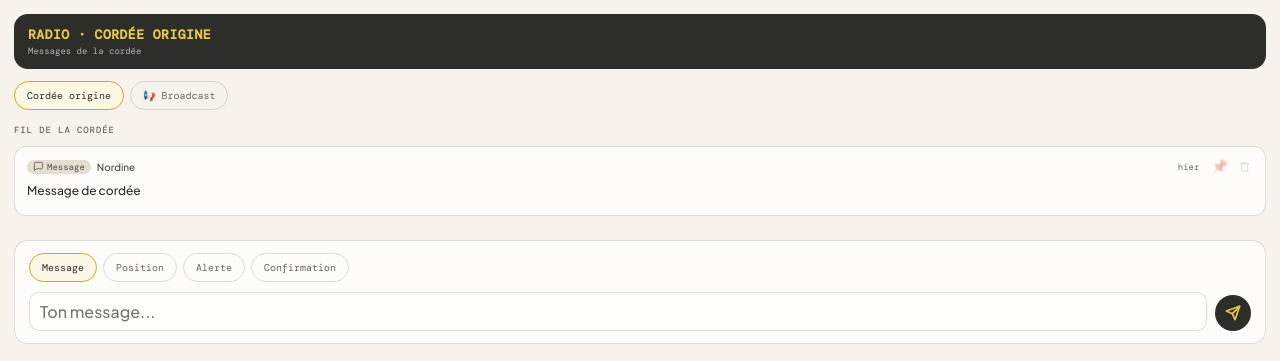
Test case: RadioPage › le sélecteur bascule sur le canal Broadcast (collection racine) sans en faire la cordée active
Expected: the button "Cordée origine" is shown, x1=14 y1=81 x2=124 y2=110
Expected: the text "Message de cordée" is shown, x1=27 y1=183 x2=141 y2=198
Click the button "📢 Broadcast" at x=179, y=96, box x1=130 y1=81 x2=228 y2=110
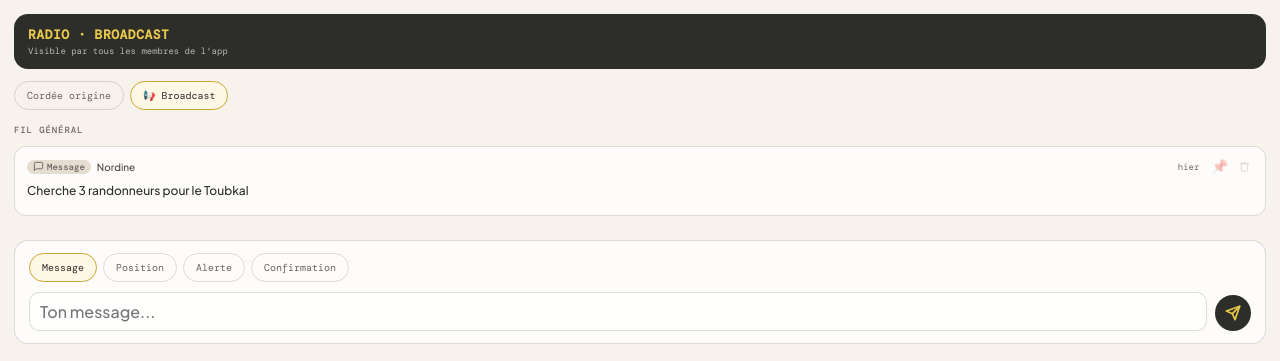
Expected: the text "Cherche 3 randonneurs pour le Toubkal" is shown, x1=27 y1=183 x2=249 y2=198
Expected: the text "Message de cordée" is gone
Expected: the text "Visible par tous les membres de l'app" is shown, x1=28 y1=45 x2=228 y2=57
# Retour sur le canal de la cordée : celui-ci redevient la cordée active.
Click the button "Cordée origine" at x=69, y=96, box x1=14 y1=81 x2=124 y2=110
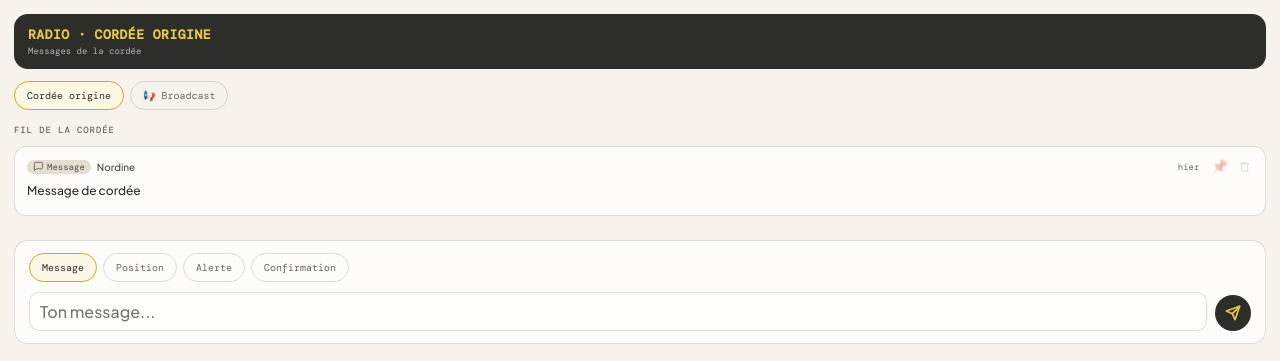
Expected: the text "Message de cordée" is shown, x1=27 y1=183 x2=141 y2=198
